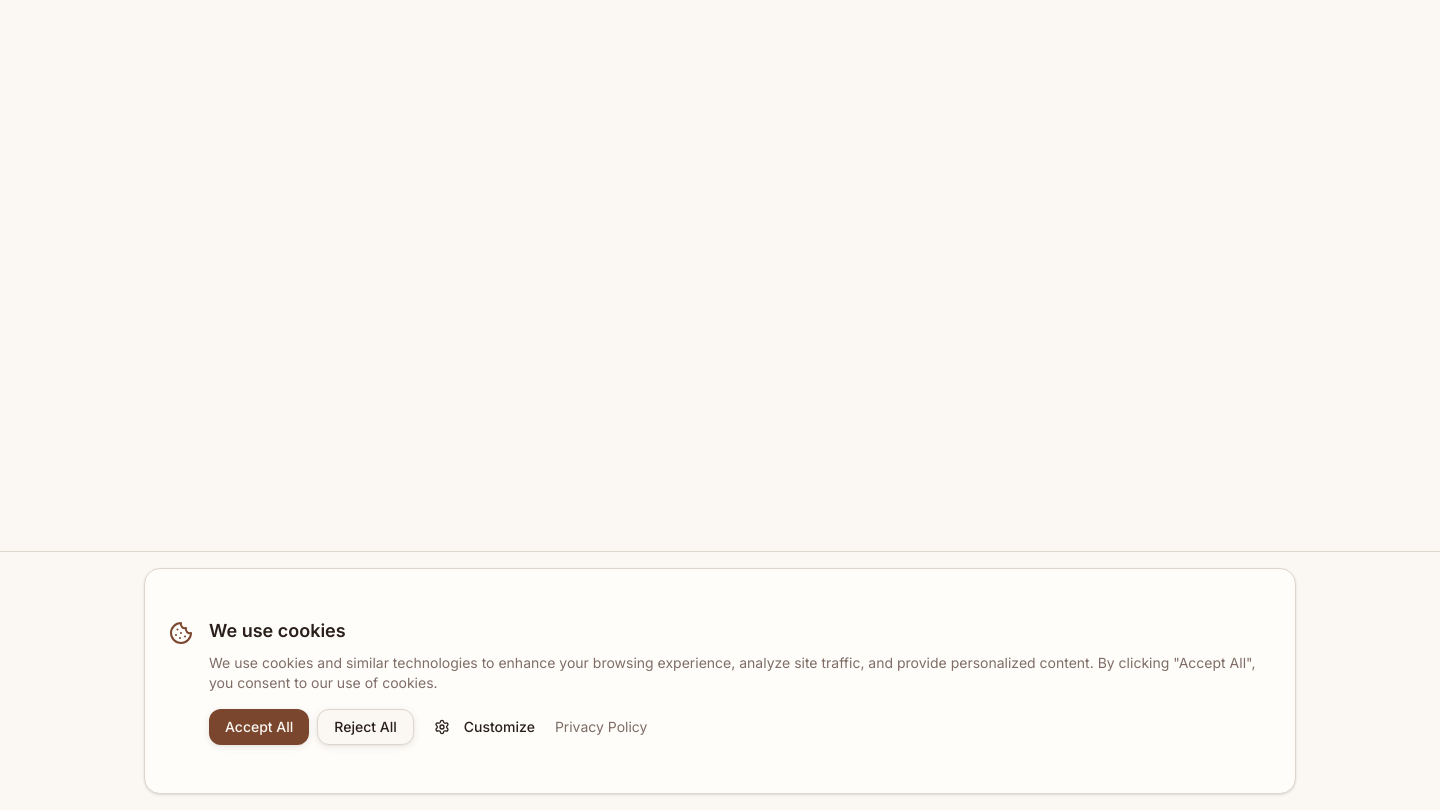
CookieConsentBanner › shows cookie categories in settings dialog
The image size is (1440, 810).
expect the heading "We use cookies" is shown: met, box [209,620,346,641]
Click the button "Customize" at (484,727), box [422,709,547,745]
(page scrolled)
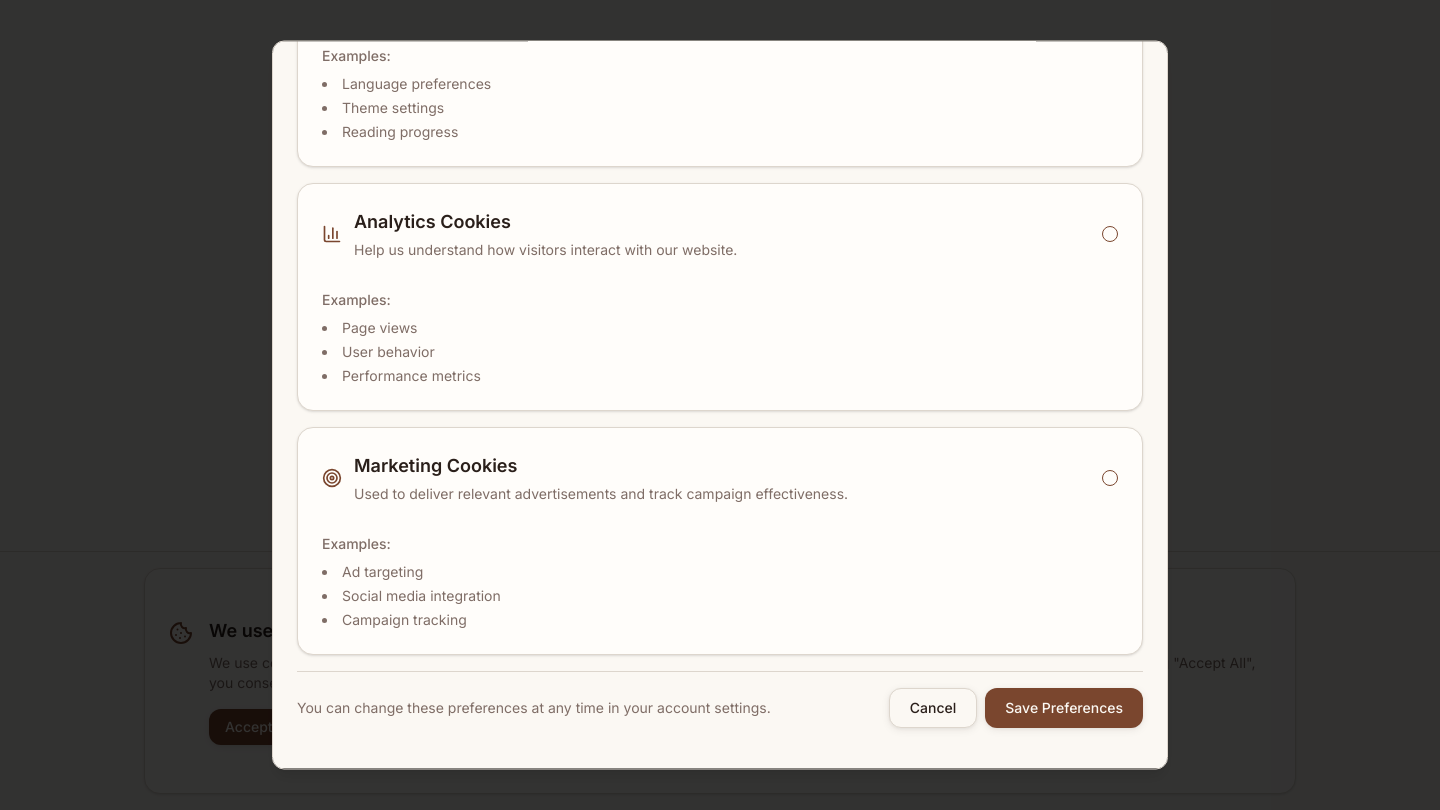
expect the text "Analytics Cookies" is shown: met, box [354,208,511,236]
expect the text "Marketing Cookies" is shown: met, box [354,452,517,480]
